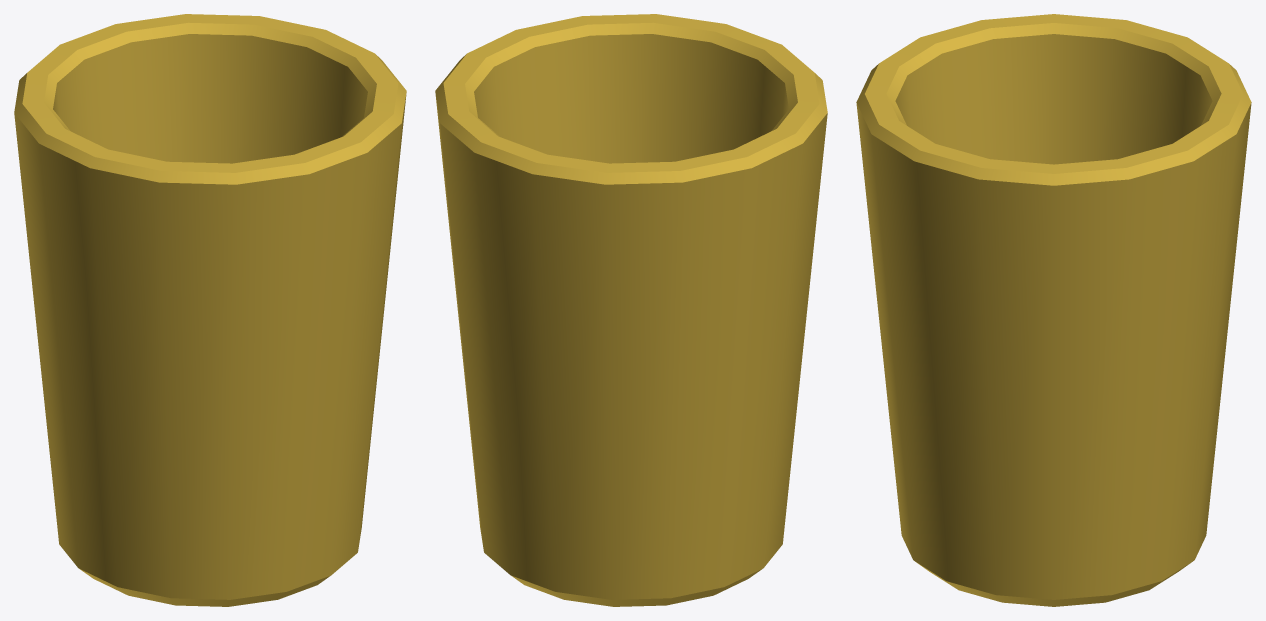
File: SM_PenBox.fbx
3 renders of one model, left to right at view 1: azimuth 30°, elevation 25°; view 2: azimuth 150°, elevation 25°; view 3: azimuth 270°, elevation 25°, orthographic.
Parts seen in each view (by area): view 1: SM_PenBox; view 2: SM_PenBox; view 3: SM_PenBox.
Part boxes in pixels (x1=…): SM_PenBox: x1=14, y1=14, x2=406, y2=606; SM_PenBox: x1=435, y1=14, x2=827, y2=606; SM_PenBox: x1=856, y1=14, x2=1251, y2=606.
Bounding box in the file's own units: 13.39 × 17.08 × 13.39.
